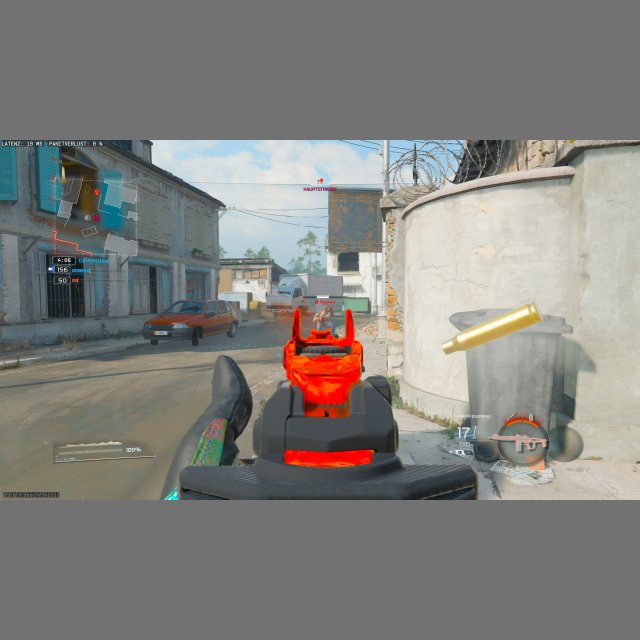player: (319, 307, 334, 330)
